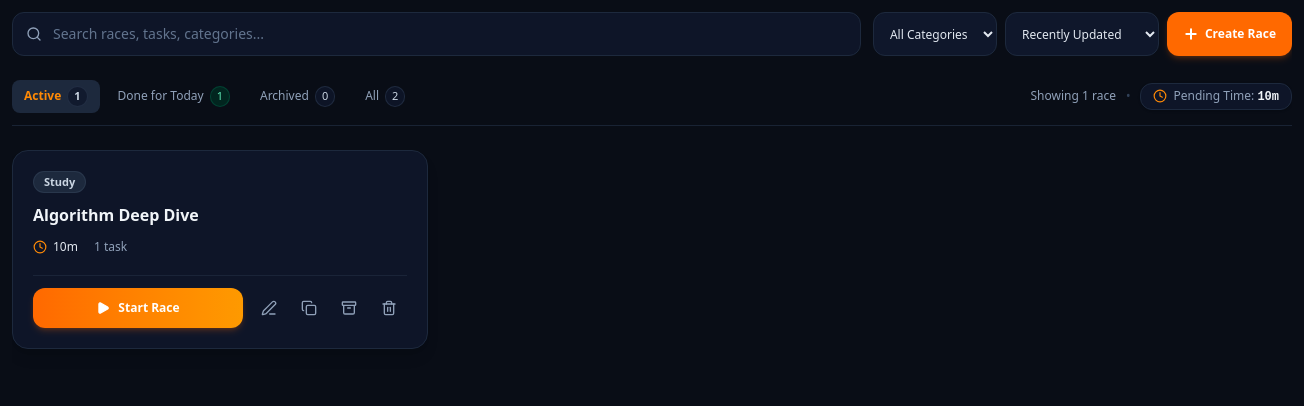
Scenario: RaceDashboard - In-Progress & Saved Races Total Time Remaining › "Done for Today" Section & Daily Transition › moves a race from Active to Done for Today once completed today
Expected: the button "Active 1" is shown, [12,80,100,113]
Expected: the text "HIIT Morning Routine" is not shown
Click "Done for Today" tab
Click the button "Done for Today 1": point(174, 96) [106,80,242,113]
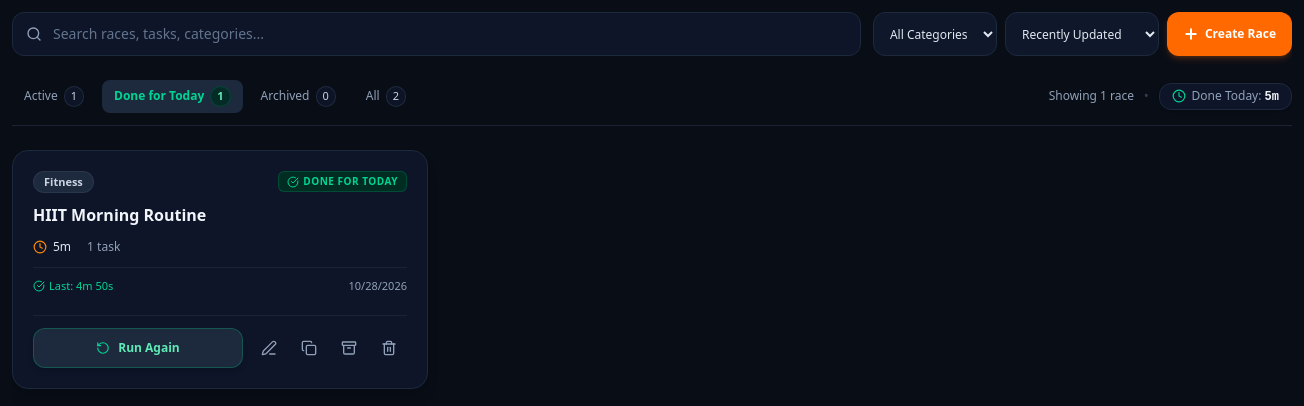
Expected: the heading "HIIT Morning Routine" is shown, [33,204,206,226]
Expected: the text "Run Again" is shown, [118,340,180,356]
Expected: the heading "Algorithm Deep Dive" is gone
